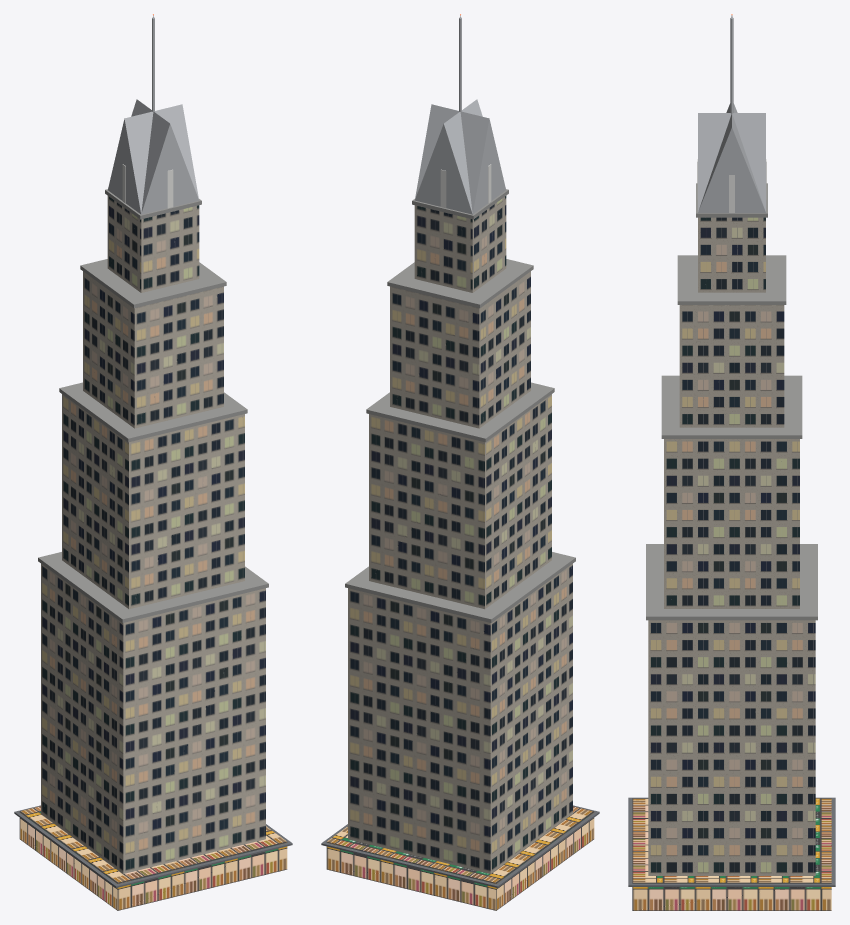
File: tower_setback.glb
The picture shows the model from 3 angles, left to right: view 1: azimuth 30°, elevation 25°; view 2: azimuth 150°, elevation 25°; view 3: azimuth 270°, elevation 25°; orthographic projection.
Parts seen in each view (by area): view 1: tower_setback; view 2: tower_setback; view 3: tower_setback.
Part boxes in pixels (x1=…): tower_setback: x1=14, y1=14, x2=292, y2=910; tower_setback: x1=321, y1=14, x2=599, y2=910; tower_setback: x1=628, y1=14, x2=835, y2=910.
Bounding box in the file's own units: 39.6 × 180 × 39.6.
Materials: 7 (2 with a texture image).
